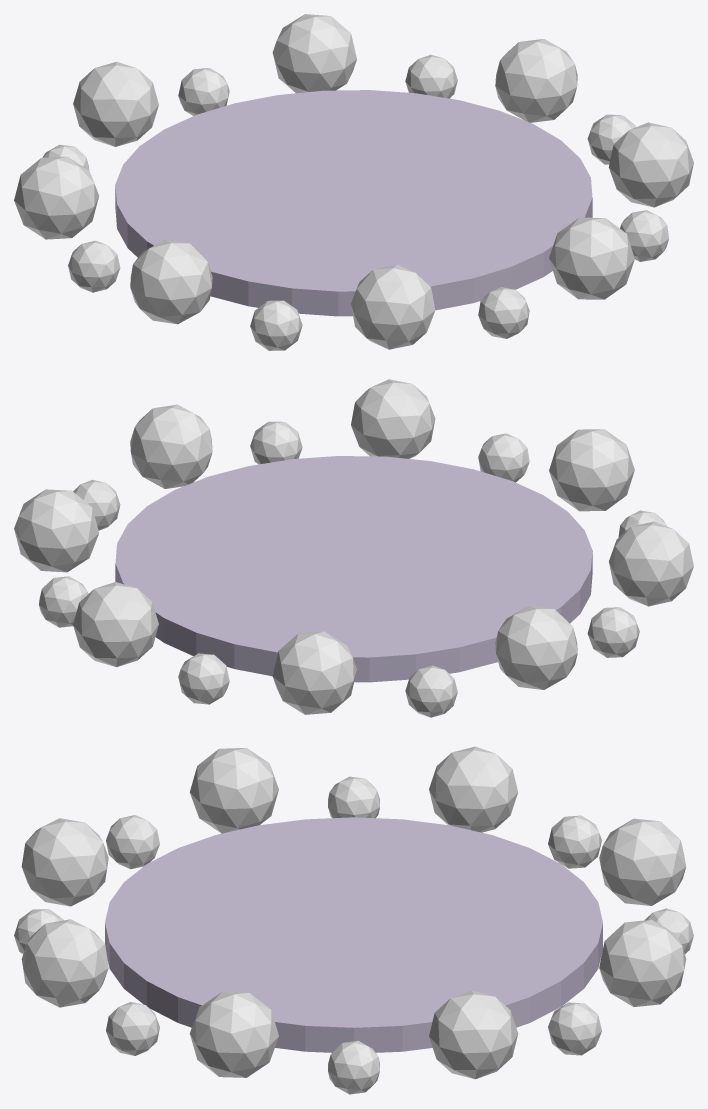
The model's file is portal.fbx.
3 views of the same model, one above another, from view 1: azimuth 30°, elevation 25°; view 2: azimuth 150°, elevation 25°; view 3: azimuth 270°, elevation 25° (orthographic). The views are drawn at different scales.
Parts seen in each view (by area): view 1: Cylinder; view 2: Cylinder; view 3: Cylinder.
Part boxes in pixels (left/top/right/bottom): Cylinder: left=14, top=14, right=693, bottom=350; Cylinder: left=14, top=379, right=693, bottom=717; Cylinder: left=14, top=746, right=693, bottom=1094.
Size of the model in its own units: 3.33 by 0.4762 by 3.33.
